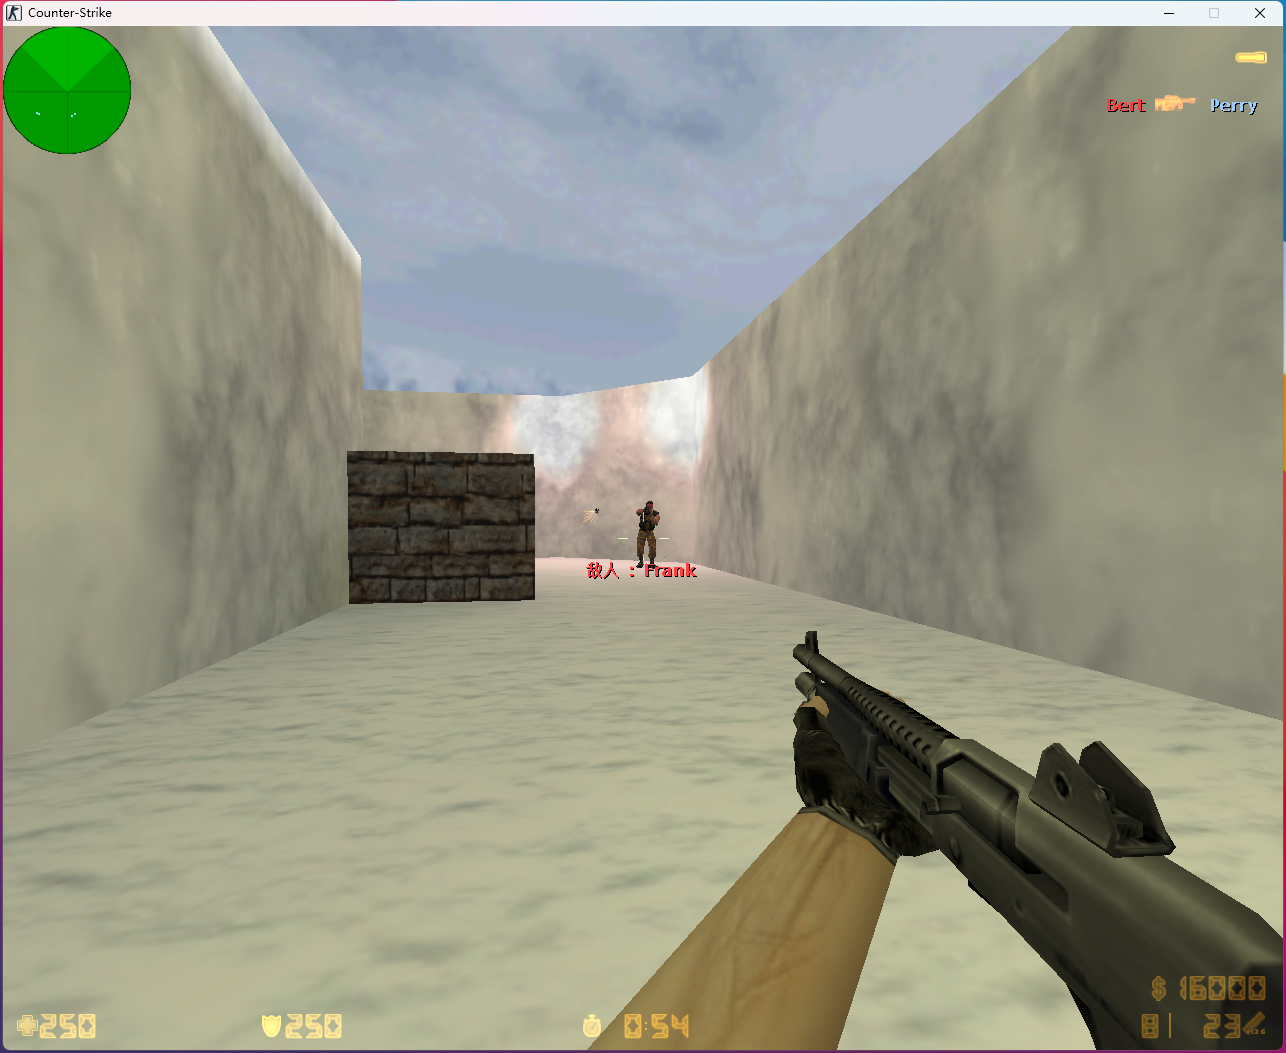T: (636, 500, 660, 567)
